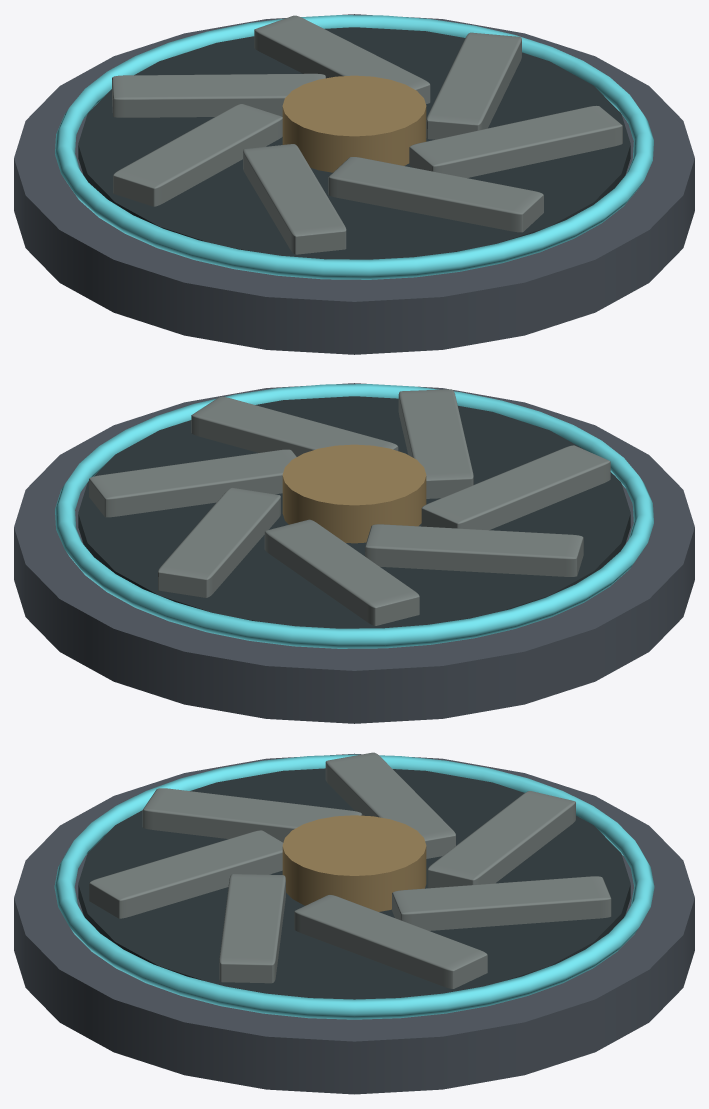
The model's file is warden-machine-vacuum-well-v1.glb.
3 views of the same model, one above another, from view 1: azimuth 30°, elevation 25°; view 2: azimuth 150°, elevation 25°; view 3: azimuth 270°, elevation 25° (orthographic).
Parts seen in each view (by area): view 1: Hull paint / Cylinder, Steel / Plate (×7), Dark metal / Cylinder, Optics / Ring, Brass / Cylinder; view 2: Hull paint / Cylinder, Steel / Plate (×7), Dark metal / Cylinder, Optics / Ring, Brass / Cylinder; view 3: Hull paint / Cylinder, Steel / Plate (×7), Dark metal / Cylinder, Optics / Ring, Brass / Cylinder.
Boxes of the visible parts, x1,y1,x2,y2 form: Hull paint / Cylinder: (14,14,694,354); Steel / Plate (×7): (112,15,622,254); Dark metal / Cylinder: (78,27,630,259); Optics / Ring: (55,15,653,279); Brass / Cylinder: (282,75,426,172); Hull paint / Cylinder: (14,383,694,723); Steel / Plate (×7): (89,389,610,625); Dark metal / Cylinder: (78,396,630,628); Optics / Ring: (55,384,653,648); Brass / Cylinder: (282,444,426,543); Hull paint / Cylinder: (14,753,694,1094); Steel / Plate (×7): (89,752,611,988); Dark metal / Cylinder: (78,768,630,999); Optics / Ring: (54,754,654,1019); Brass / Cylinder: (282,815,426,911).
Size of the model in its own units: 0.3202 by 0.0544 by 0.3202.
